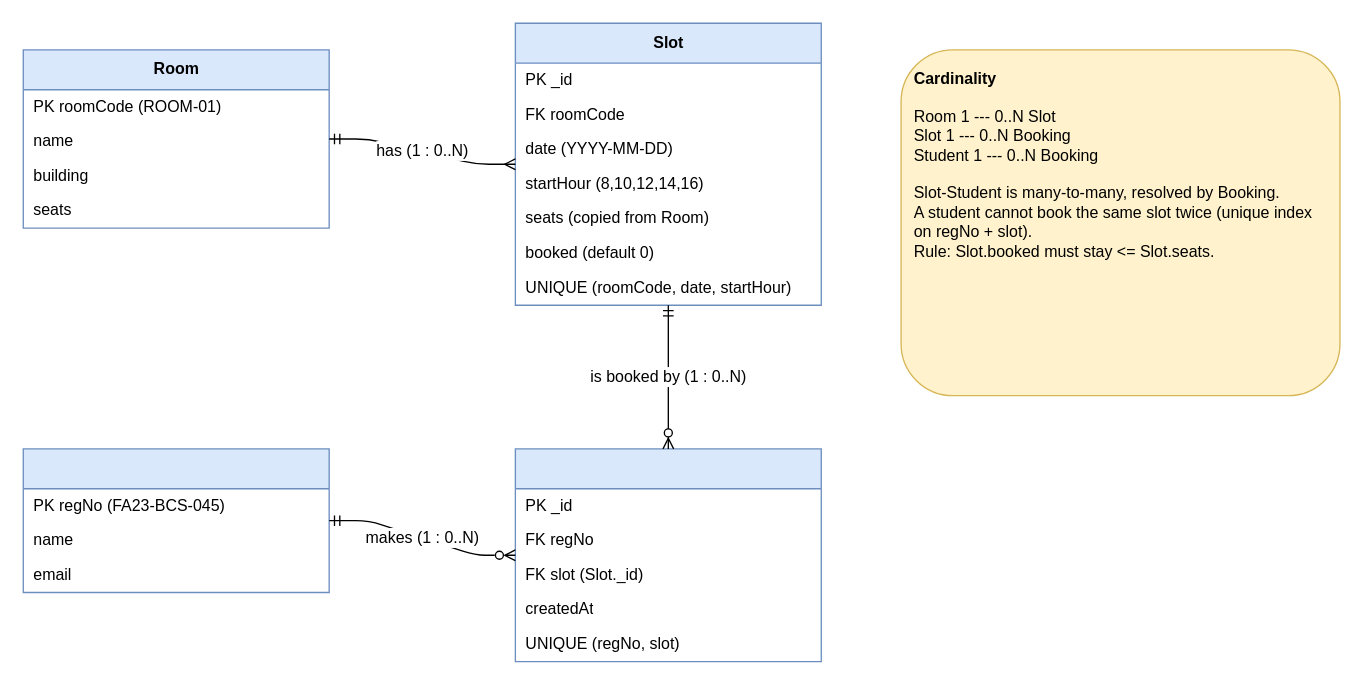
Image size: 1363x685. Some labels were removed from this diagram. The shapes that lost their labels are listed below. From the top down, each one's box as (x1, y1, x2, y2) in pixels, then its label:
(22, 448, 329, 593): Student
(514, 448, 821, 662): Booking
